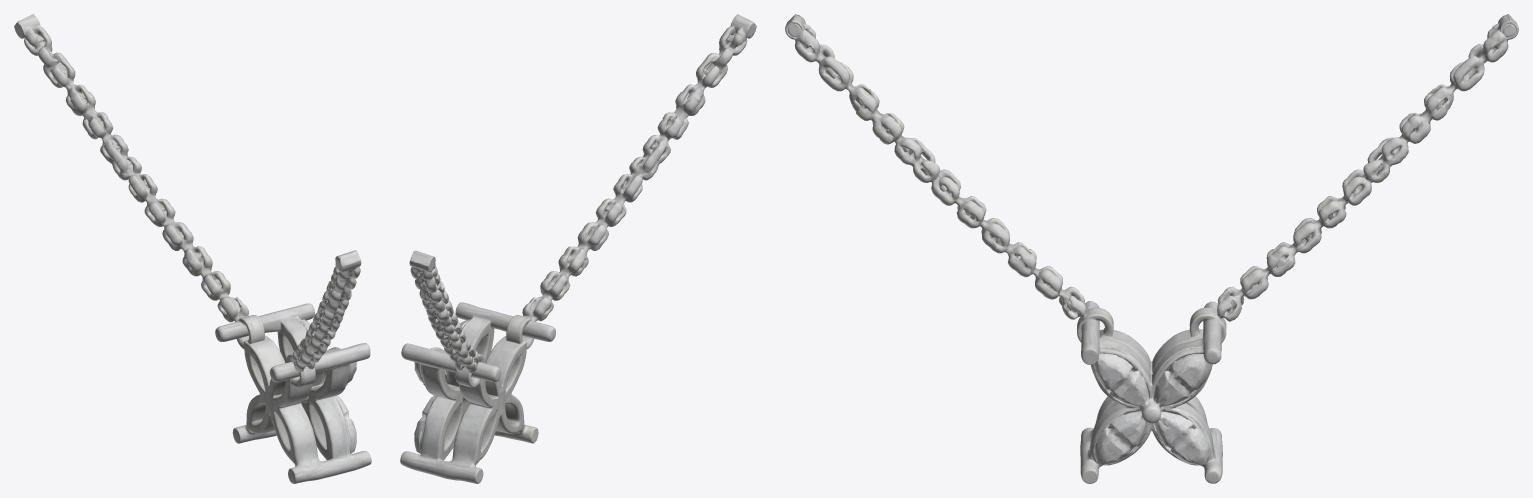
3 renders of one model, left to right at view 1: azimuth 30°, elevation 25°; view 2: azimuth 150°, elevation 25°; view 3: azimuth 270°, elevation 25°, orthographic. The views are drawn at different scales.
Visible parts, largest first — view 1: tripo_node_7cd9b78e-6b6b-475e-a46c-74bc456c0df8; view 2: tripo_node_7cd9b78e-6b6b-475e-a46c-74bc456c0df8; view 3: tripo_node_7cd9b78e-6b6b-475e-a46c-74bc456c0df8.
Part boxes in pixels (x1,y1,x2,y2): tripo_node_7cd9b78e-6b6b-475e-a46c-74bc456c0df8: (14, 14, 371, 483); tripo_node_7cd9b78e-6b6b-475e-a46c-74bc456c0df8: (400, 14, 756, 483); tripo_node_7cd9b78e-6b6b-475e-a46c-74bc456c0df8: (785, 14, 1518, 483).
Bounding box in the file's own units: 0.2784 × 0.5718 × 0.9796.
1 material, 1 textured.
